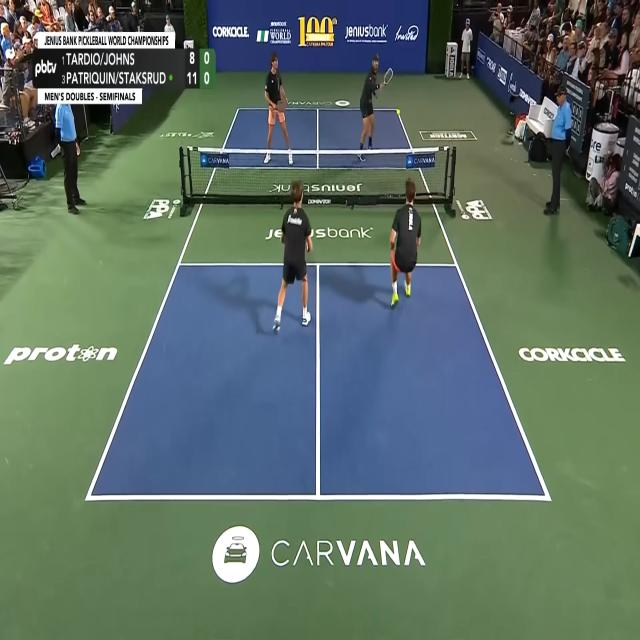ball: (396, 108, 401, 116)
